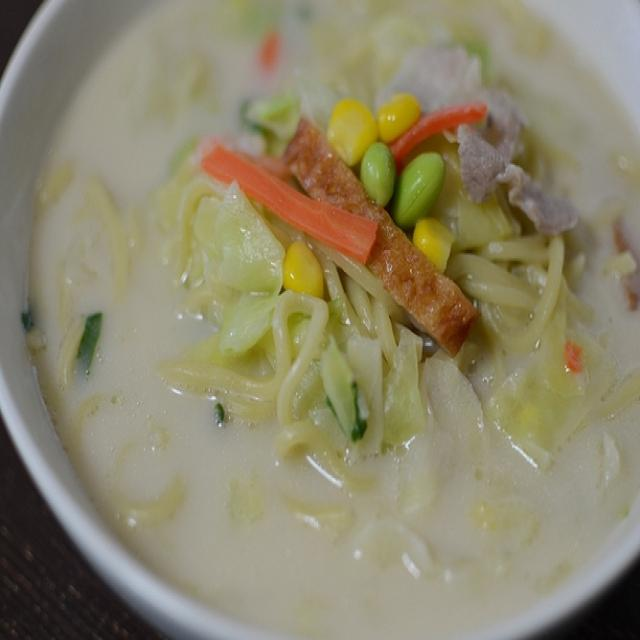熟制海鲜: (175, 160, 452, 358)
